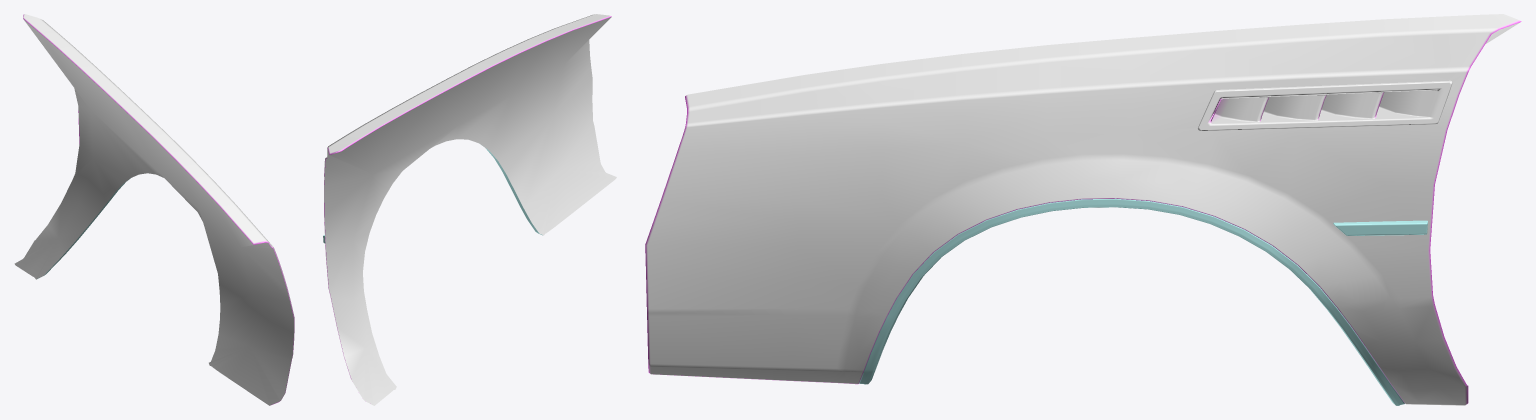
The model's file is Car_Buick_GrandNational_1987_FenderFL_SetA.fbx.
3 views of the same model, side by side, from view 1: azimuth 30°, elevation 25°; view 2: azimuth 150°, elevation 25°; view 3: azimuth 270°, elevation 25° (orthographic). The views are drawn at different scales.
Visible parts, largest first — view 1: FenderFL 6; view 2: FenderFL 6; view 3: FenderFL 6.
Part boxes in pixels (x1,y1,x2,y2): FenderFL 6: (14,14,294,405); FenderFL 6: (323,14,616,405); FenderFL 6: (645,14,1521,405).
Bounding box in the file's own units: 0.2035 × 0.7254 × 1.42.
